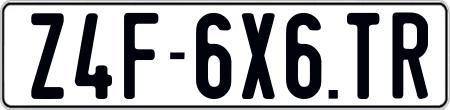4: (75, 11, 115, 98)
6: (196, 10, 236, 101), (285, 10, 324, 101)
F: (122, 11, 158, 100)
R: (389, 11, 429, 104)
T: (344, 13, 382, 105)
X: (242, 13, 279, 103)
Z: (29, 11, 65, 101)
